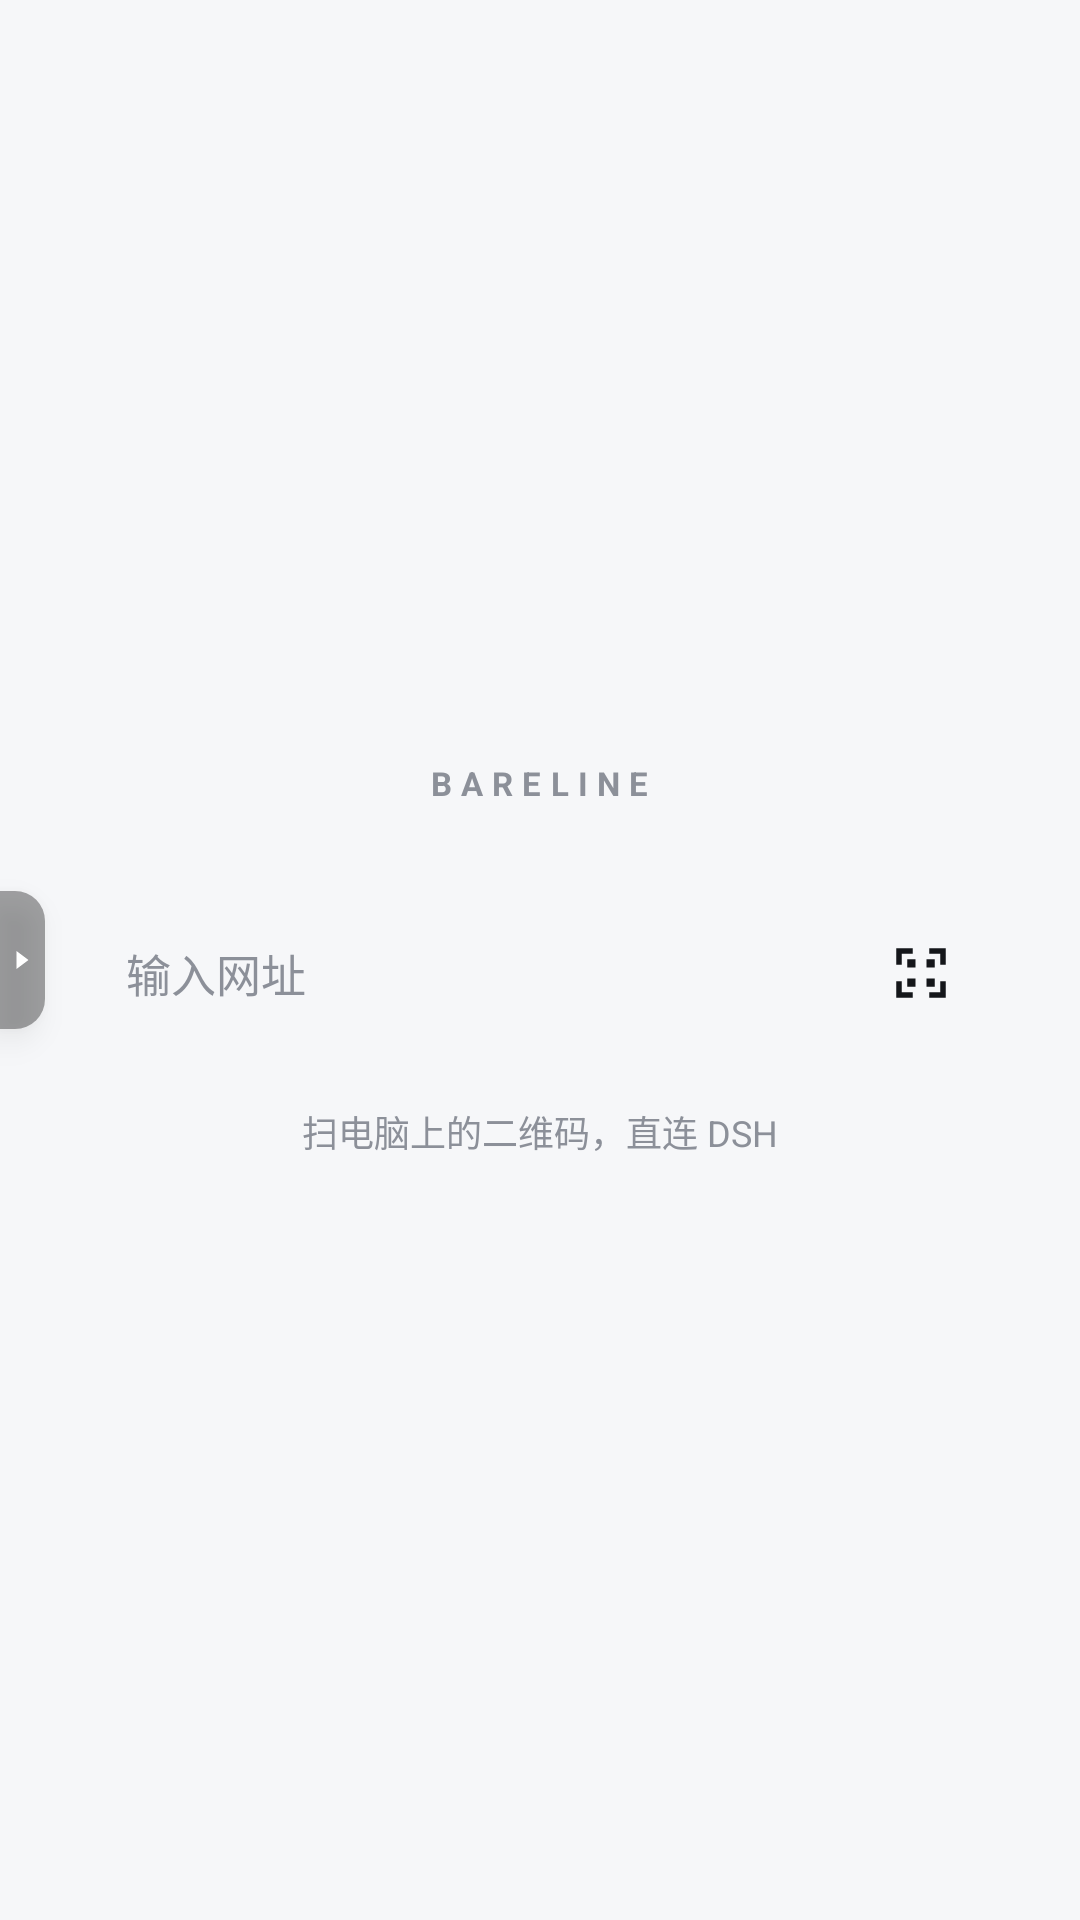

Icons on this 1080 x 1920 Android screen, each with the point to tap as point (x, y):
展开菜单按钮: point (22, 960)
扫码: point (921, 973)
